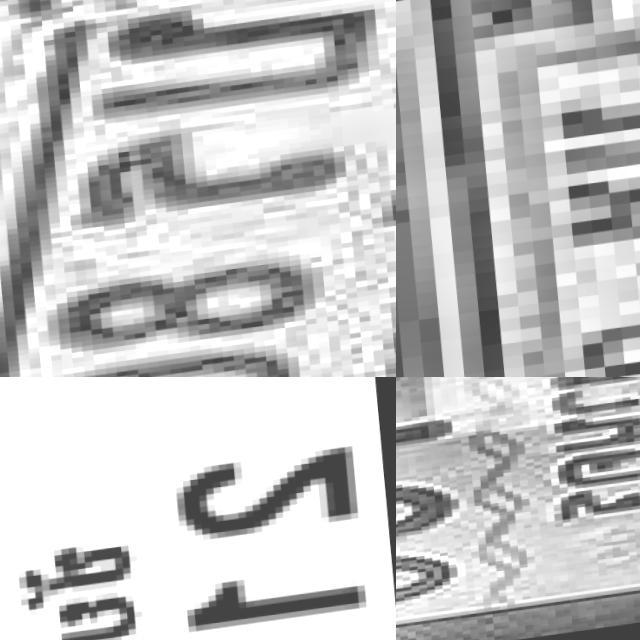license-plate: (0, 0, 396, 377), (0, 377, 396, 640), (441, 0, 640, 377), (396, 377, 640, 640)
